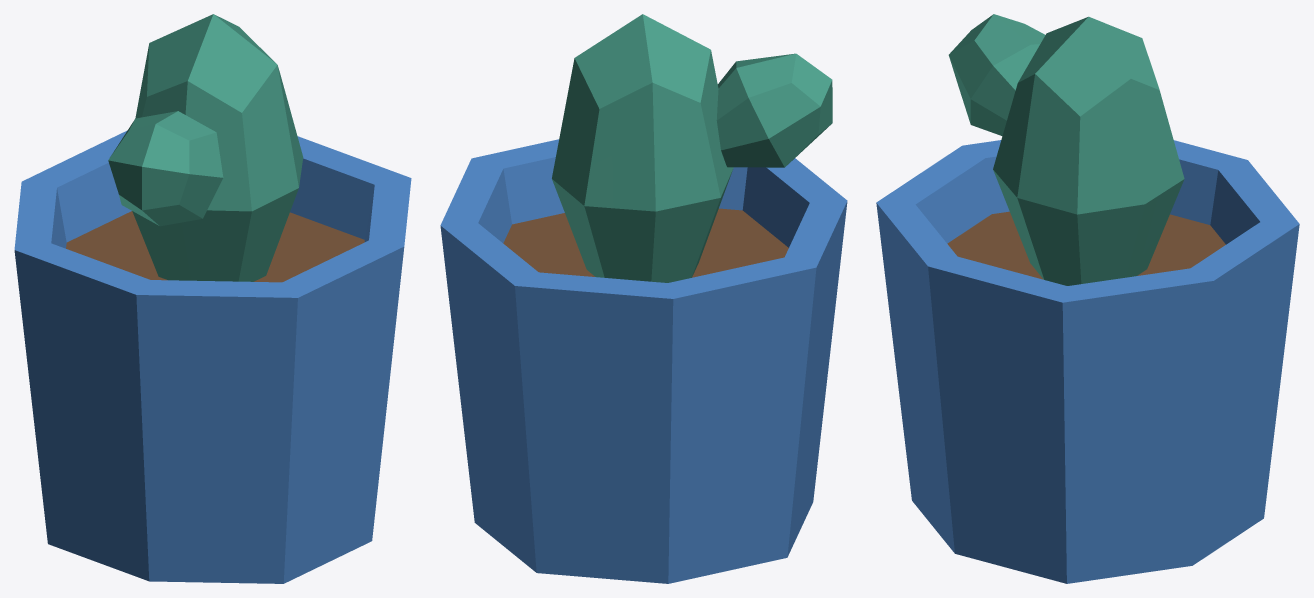
The model's file is Cactus_1_231109.glb.
The picture shows the model from 3 angles, left to right: view 1: azimuth 30°, elevation 25°; view 2: azimuth 150°, elevation 25°; view 3: azimuth 270°, elevation 25°; orthographic projection.
Visible parts, largest first — view 1: Cactus_1; view 2: Cactus_1; view 3: Cactus_1.
Boxes of the visible parts, bbox=[...] form: Cactus_1: bbox=[14, 14, 411, 583]; Cactus_1: bbox=[440, 14, 847, 583]; Cactus_1: bbox=[876, 14, 1299, 583].
Bounding box in the file's own units: 0.216 × 0.2777 × 0.216.
Materials: 1 (1 with a texture image).
